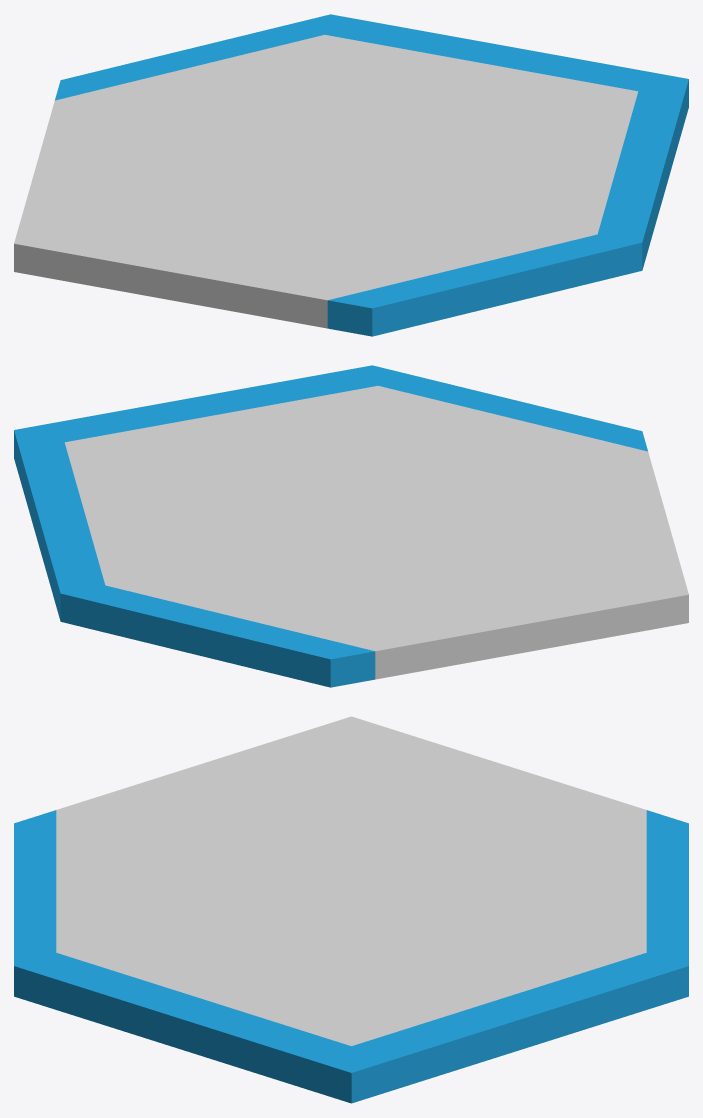
3 renders of one model, top to bottom at view 1: azimuth 30°, elevation 25°; view 2: azimuth 150°, elevation 25°; view 3: azimuth 270°, elevation 25°, orthographic. The views are drawn at different scales.
Visible parts, largest first — view 1: Hexagon, S, SEx, NE.001, N.001; view 2: Hexagon, N.001, NE.001, SEx, S; view 3: Hexagon, SEx, NE.001, S, N.001.
Boxes of the visible parts, x1,y1,x2,y2 form: Hexagon: (14,35,638,328); S: (327,234,642,336); SEx: (598,79,688,269); NE.001: (325,14,687,91); N.001: (55,14,330,100); Hexagon: (64,386,688,679); N.001: (60,585,375,687); NE.001: (14,430,104,620); SEx: (15,365,377,442); S: (372,365,647,451); Hexagon: (56,716,646,1045); SEx: (14,952,351,1103); NE.001: (351,952,688,1103); S: (14,810,56,965); N.001: (646,810,688,965).
Bounding box in the file's own units: 5 × 4 × 0.2.
